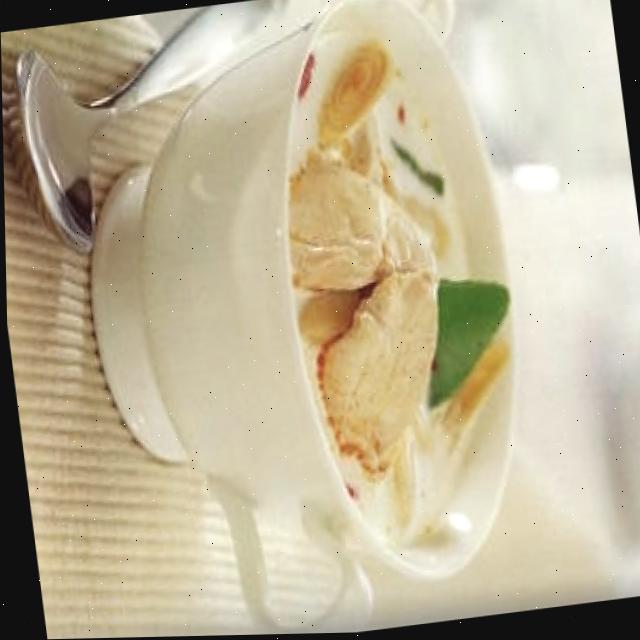汤锅炖物: (66, 0, 591, 623)
